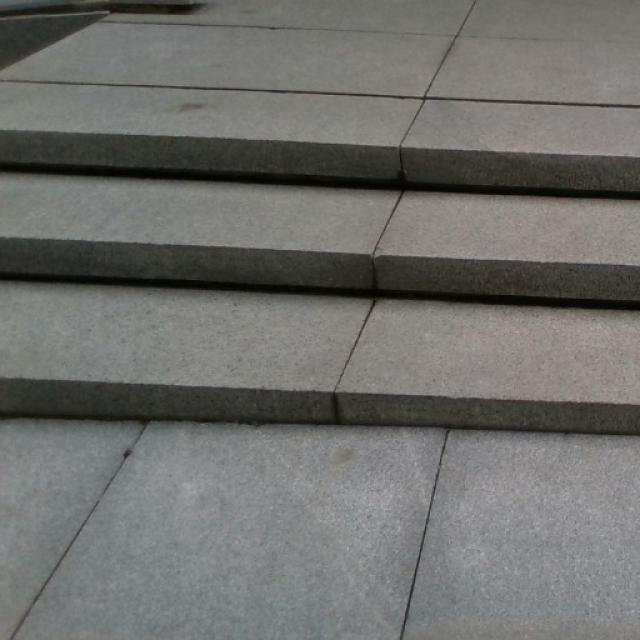Stairs: (0, 101, 639, 434)
